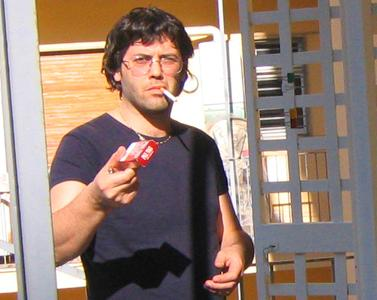person: (48, 6, 256, 300)
